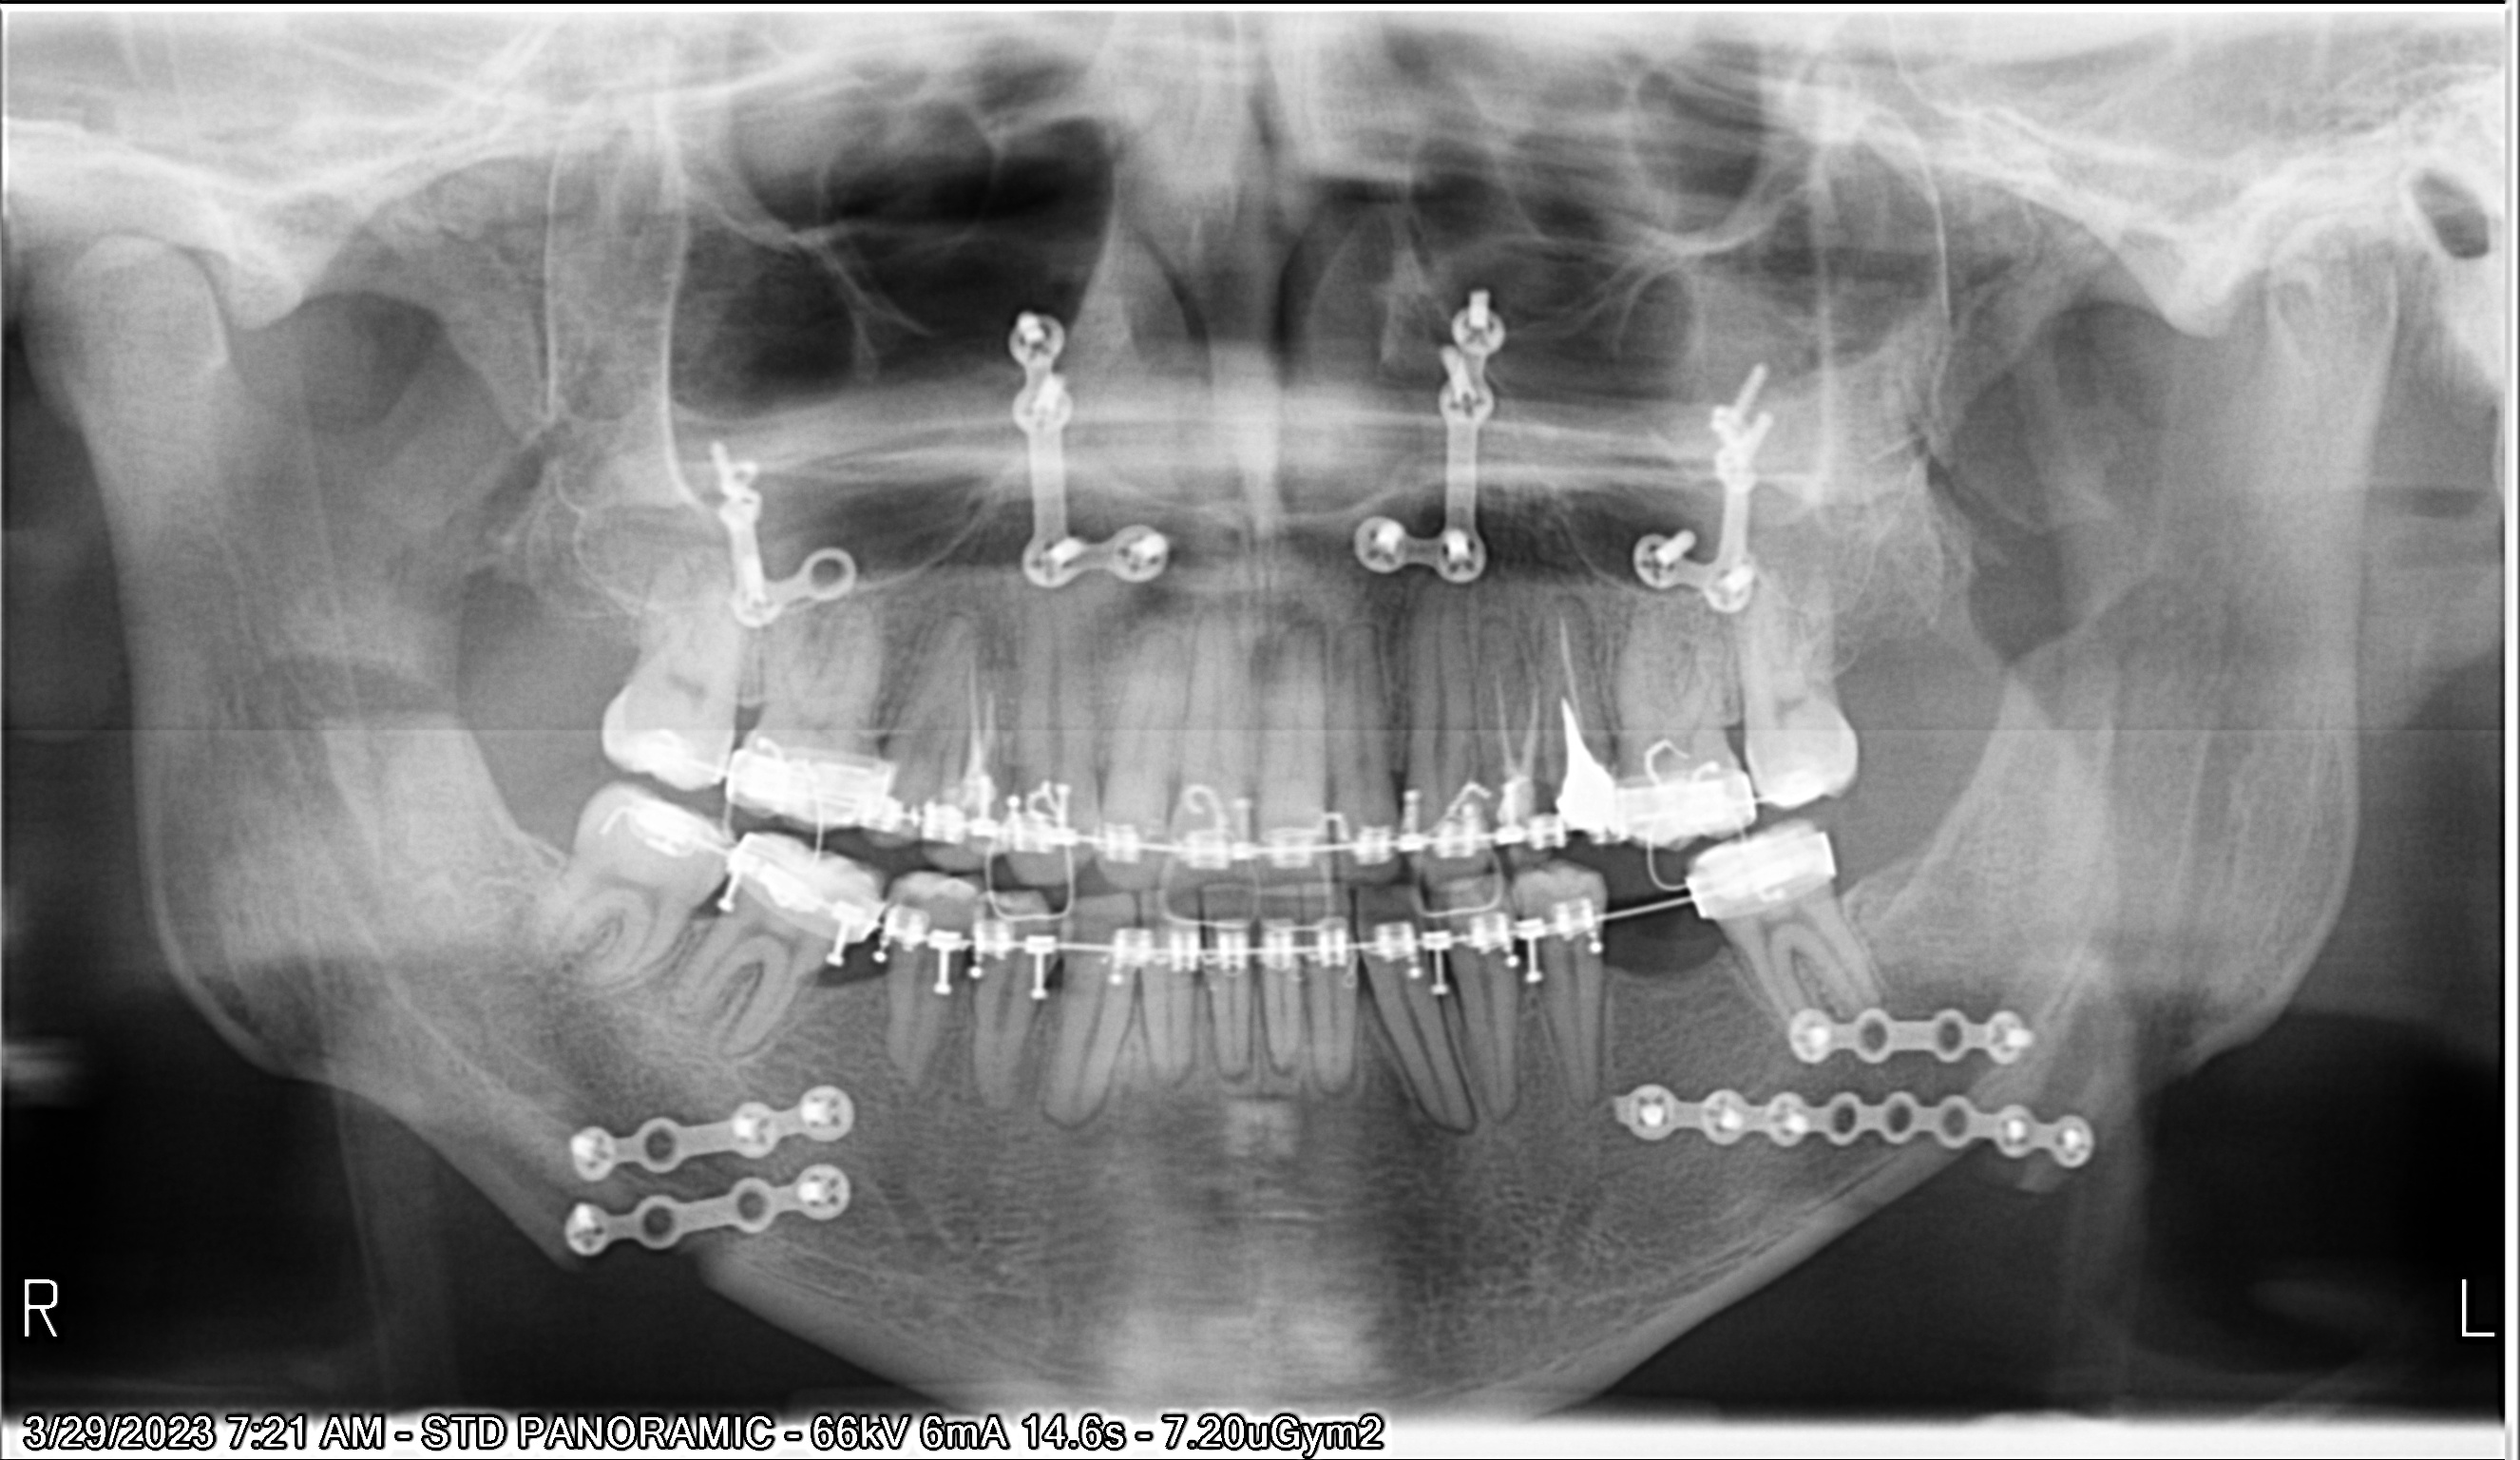API: (1358, 1048, 1487, 1173), (1428, 1052, 1537, 1140), (1032, 1064, 1127, 1161), (1245, 1039, 1329, 1107), (1131, 1052, 1207, 1114), (1211, 1048, 1270, 1095)
END: (1483, 612, 1567, 796), (1537, 579, 1617, 751)
ORD: (551, 667, 1876, 1015)
SRD: (1603, 994, 2180, 1241), (533, 1043, 940, 1304), (1315, 233, 1534, 633), (973, 294, 1181, 617), (637, 374, 893, 626), (1605, 308, 1801, 617)
